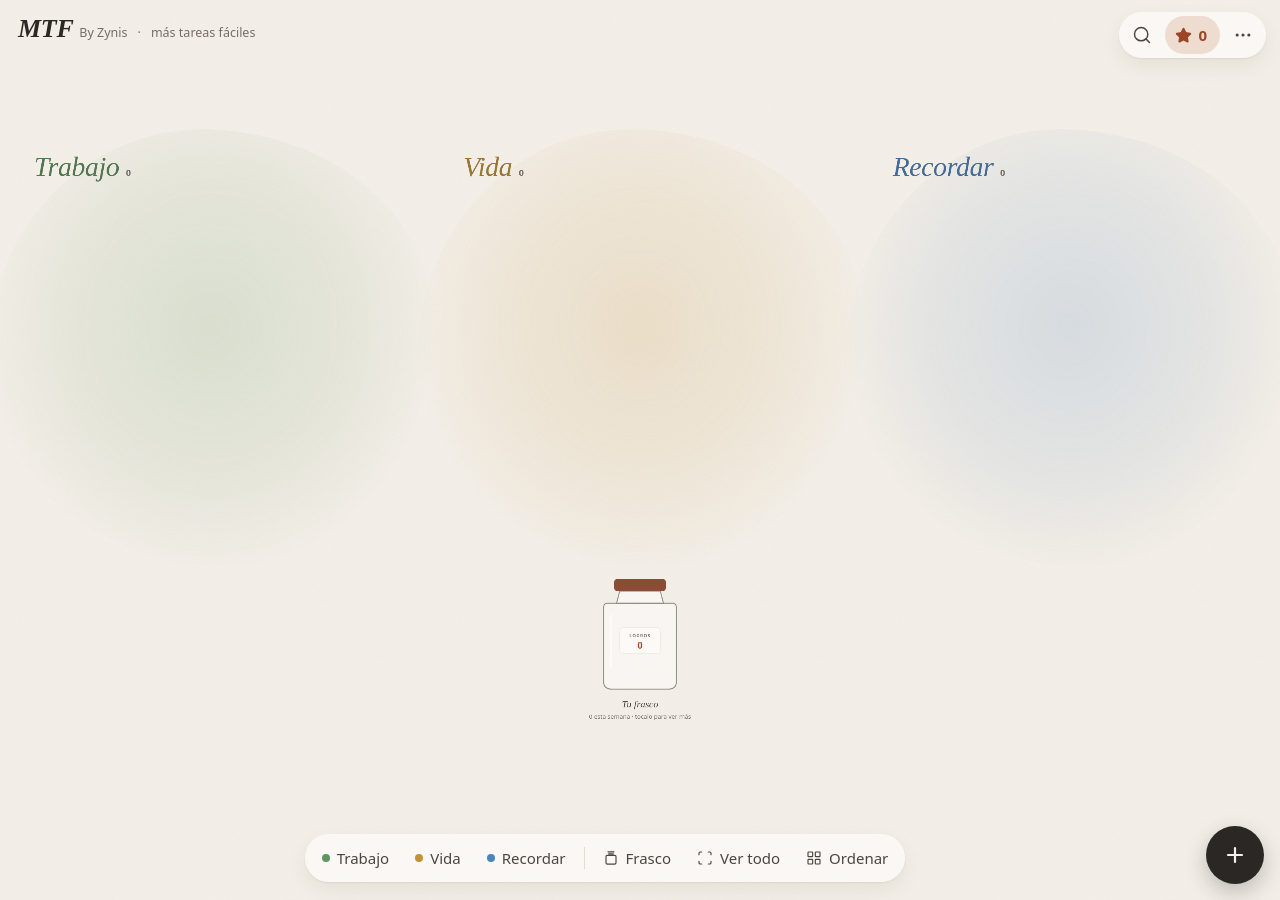
App › switching to English changes every text but the brand, the Area names and the page language, and is remembered
Click the button named "Ajustes". click: x=1243, y=35
box: [1224,16,1262,54]
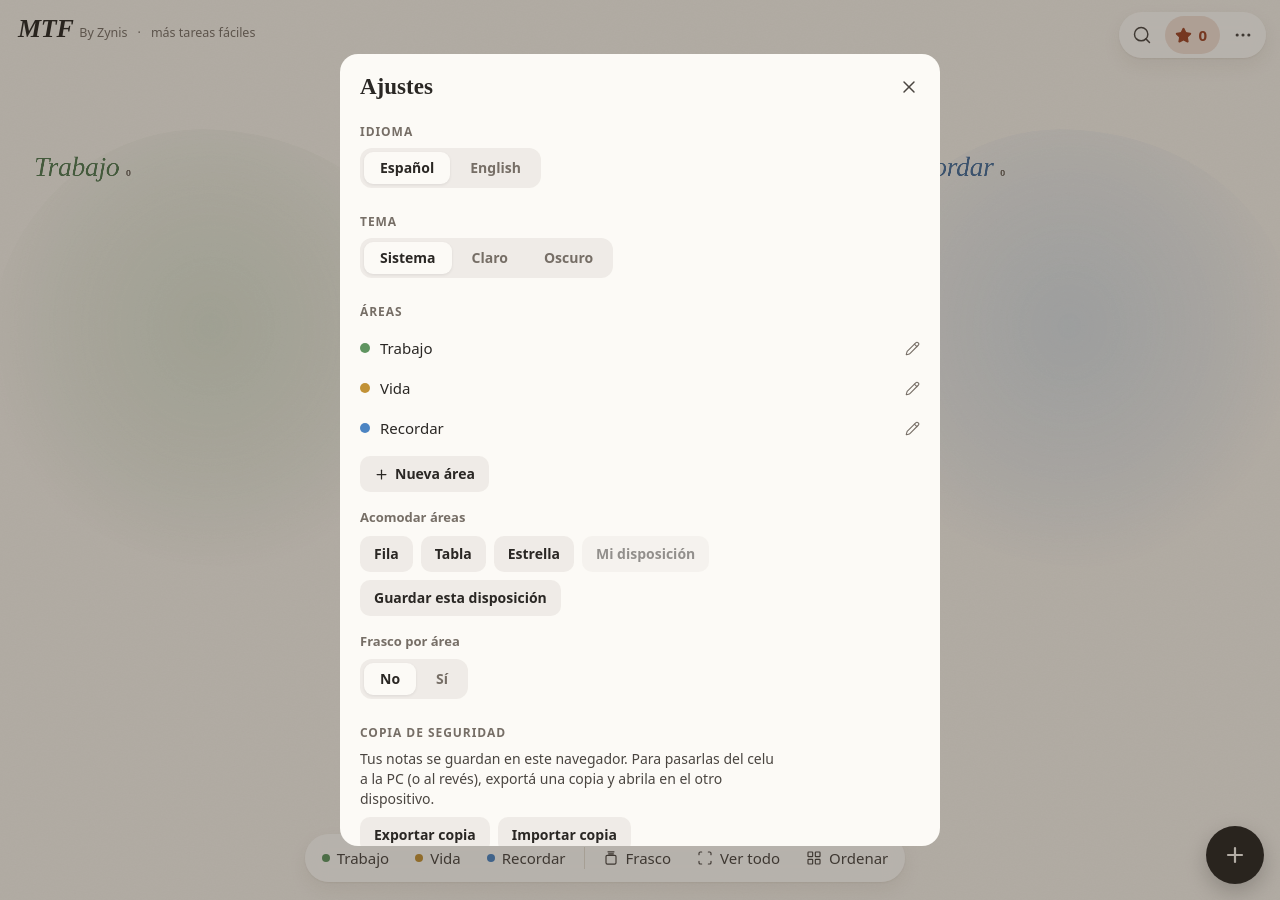
Click the button "English". click: x=496, y=168
box: [454,152,537,184]
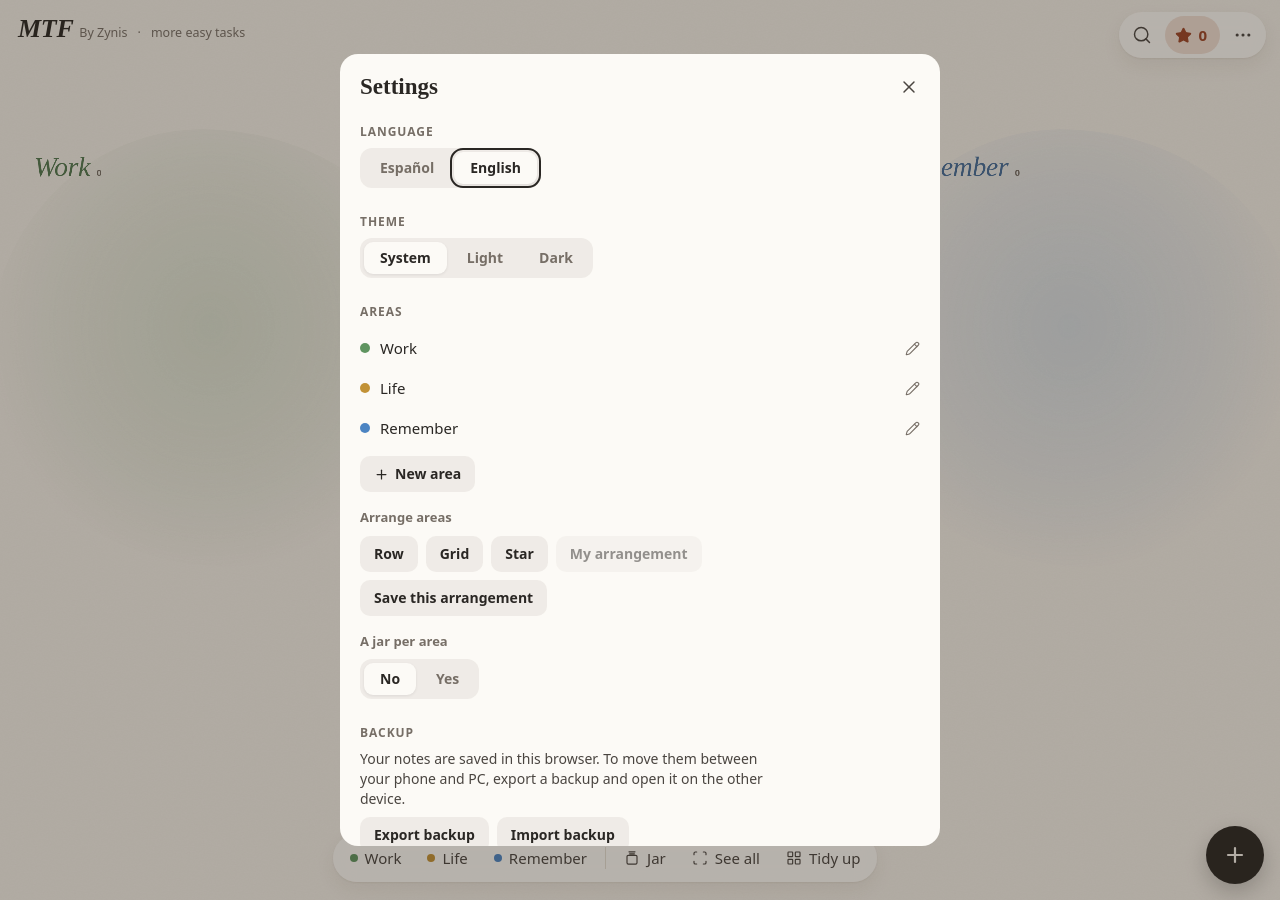
Expected: the element named "Desk" is shown
Expected: the dialog "Settings" is shown, [340,54,940,846]
Expected: the element named "Language" is shown, [360,148,541,188]
